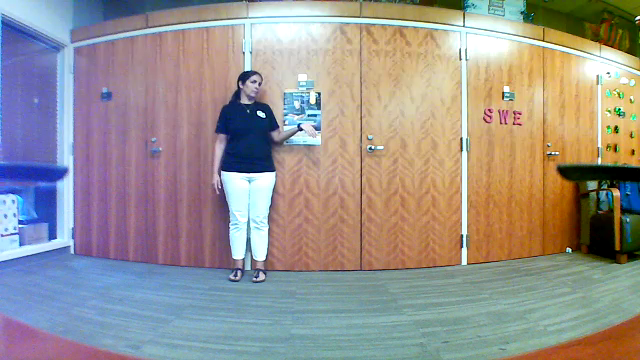land: (296, 122, 326, 145)
